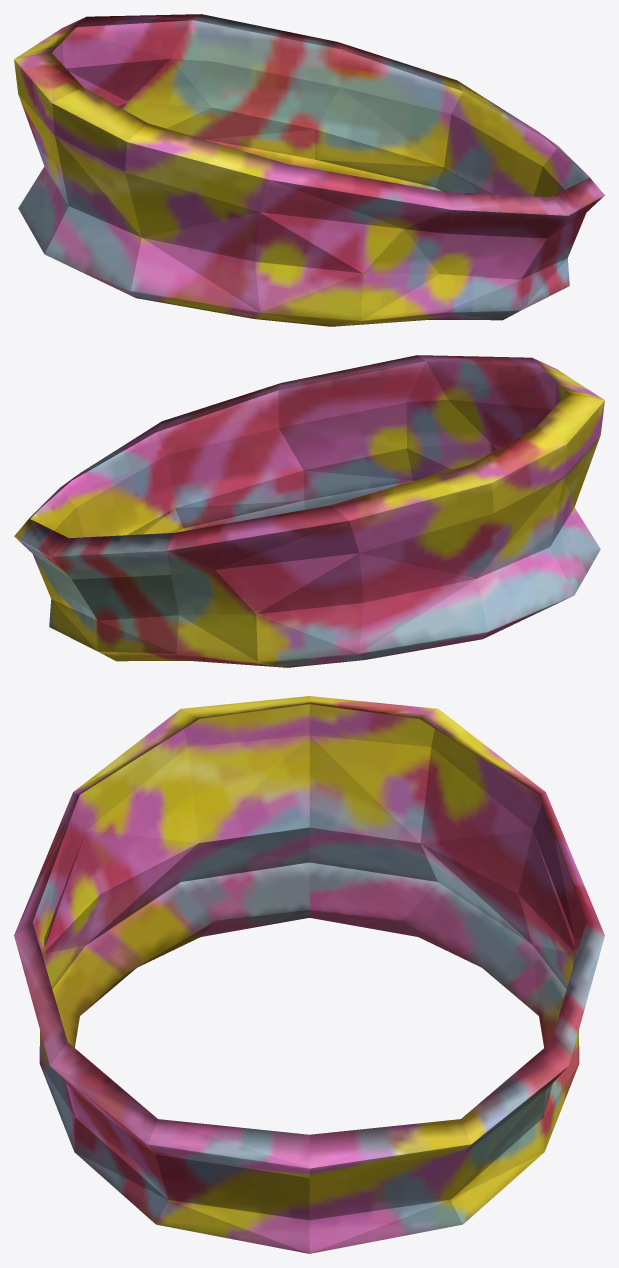
The model's file is Monkey_starBandana.obj.
3 views of the same model, one above another, from view 1: azimuth 30°, elevation 25°; view 2: azimuth 150°, elevation 25°; view 3: azimuth 270°, elevation 25° (orthographic). The views are drawn at different scales.
Visible parts, largest first — view 1: Monkey_starBandana_tri; view 2: Monkey_starBandana_tri; view 3: Monkey_starBandana_tri.
Boxes of the visible parts, <box> form: Monkey_starBandana_tri: <box>14,14,604,326</box>; Monkey_starBandana_tri: <box>14,355,604,667</box>; Monkey_starBandana_tri: <box>14,696,604,1253</box>.
Bounding box in the file's own units: 0.2884 × 0.1458 × 0.2517.
Materials: 1 (1 with a texture image).
